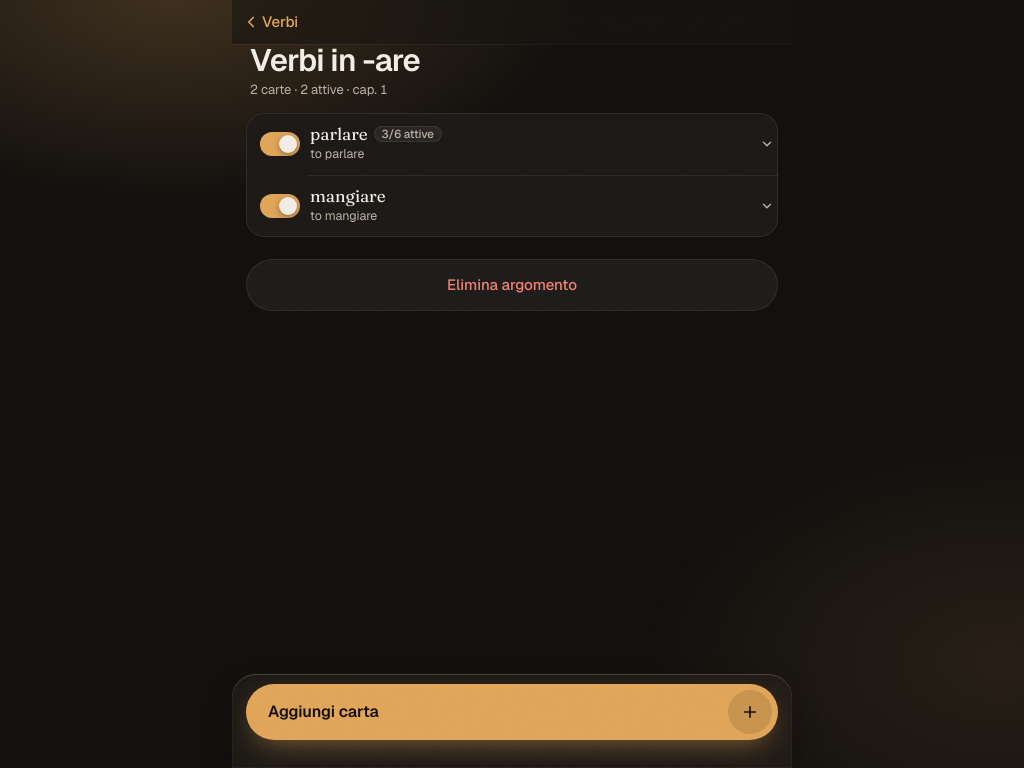
Scenario: Modifica argomento › switches a card off and saves it
Click the switch named "In ripasso · In review: mangiare" at coordinates (280, 206), box [254,184,306,228]
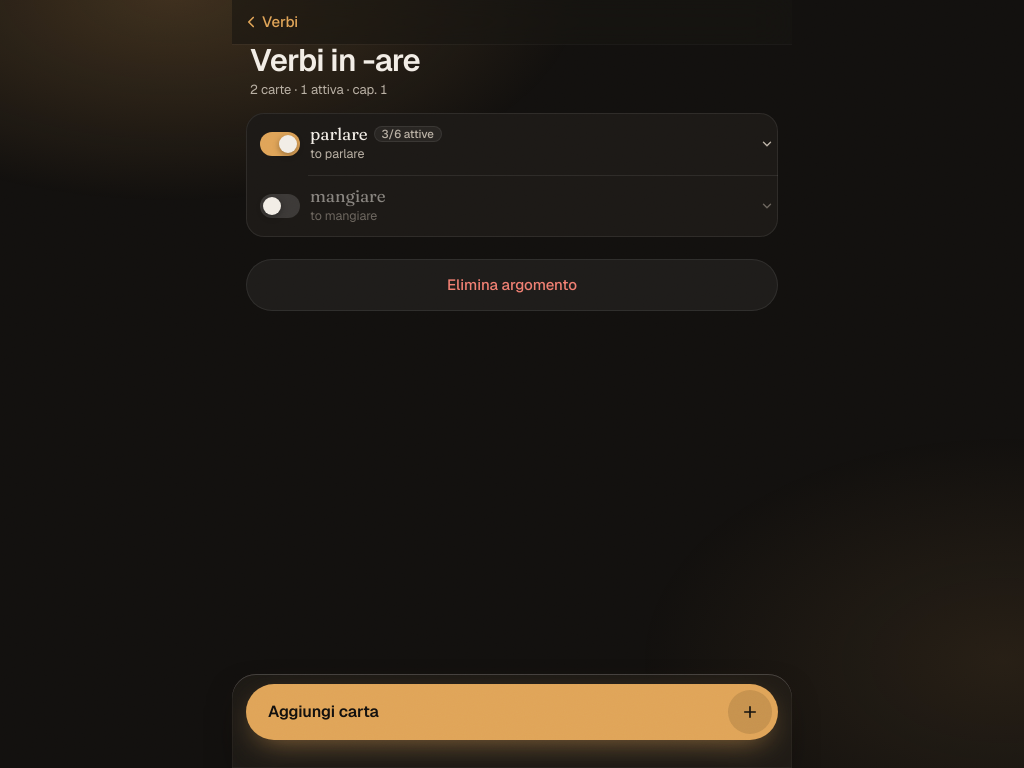
Expected: the text "2 carte · 1 attiva · cap. 1" is shown, [250,80,388,98]
